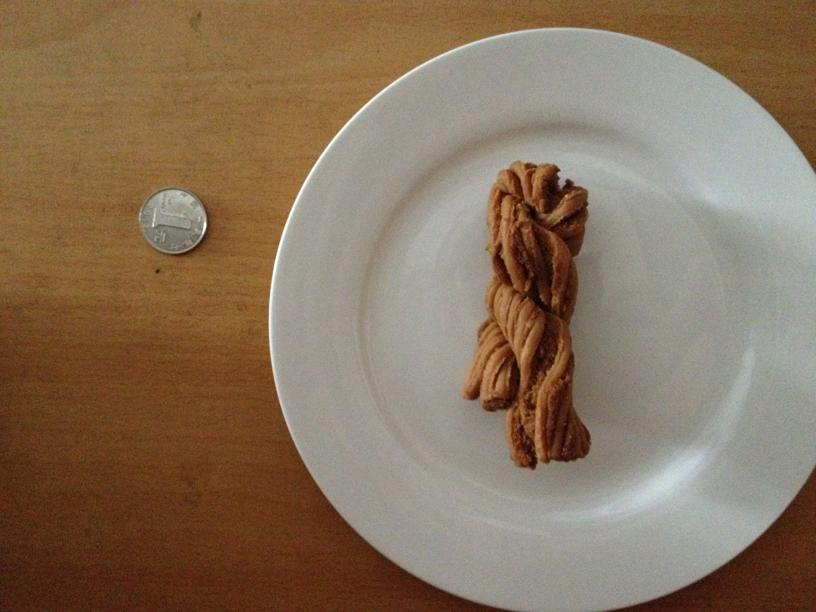coin: (136, 185, 209, 256)
fired_dough_twist: (468, 159, 592, 468)
